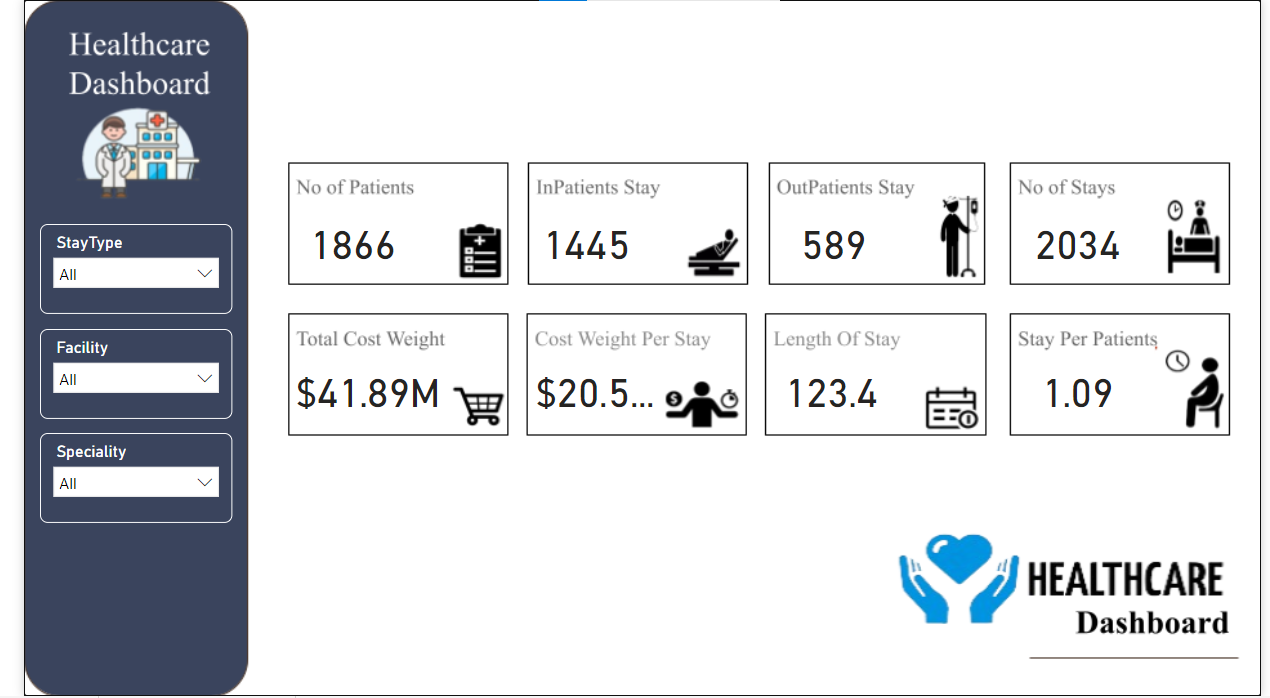

The page's visual inventory and layout, read from the dashboard file:
{"tool":"powerbi","page":{"name":"Homepage","canvas":[1280,720],"ordinal":0},"visuals":[{"type":"card","fields":{"Values":["DaxTable.No of Pateient Stays"]},"box":[1022.6,210.6,133.5,75.7],"z":0},{"type":"card","fields":{"Values":["DaxTable.No Of patients"]},"box":[278,210.6,123.9,75.7],"z":1000},{"type":"card","fields":{"Values":["DaxTable.Inpatient"]},"box":[523,212,117,74.3],"z":2000},{"type":"card","fields":{"Values":["DaxTable.Outpatient"]},"box":[773.5,212,126.6,74.3],"z":3000},{"type":"card","fields":{"Values":["DaxTable.Totalcost-Weight"]},"box":[275.3,366.1,161,71.6],"z":4000},{"type":"card","fields":{"Values":["DaxTable.Cost Per Stay"]},"box":[521.6,366.1,137.6,71.6],"z":5000},{"type":"card","fields":{"Values":["Avg(FactHealthCare.Datediff)"]},"box":[769.4,366.1,130.8,71.6],"z":6000},{"type":"card","fields":{"Values":["DaxTable.Patient per stay"]},"box":[1022.6,366.1,133.5,71.6],"z":7000},{"type":"actionButton","box":[82,642.2,100.4,39.6],"z":8000},{"type":"slicer","fields":{"Values":["Facility.Column2"]},"box":[16.5,339.8,198.6,92.9],"z":9000},{"type":"slicer","fields":{"Values":["Speciality.Column2"]},"box":[16.5,447.7,198.6,92.9],"z":10000},{"type":"slicer","fields":{"Values":["StayType.StayType"]},"box":[16.5,232,198.6,92.9],"z":11000}]}

Visuals, with their boxes in screenshot pixels (x1, y1, x2, y2), scaled from the page's 1280x720 canvas onto the 1270x698 screenshot:
card - DaxTable.No of Pateient Stays: select_region(1015, 204, 1147, 278)
card - DaxTable.No Of patients: select_region(276, 204, 399, 278)
card - DaxTable.Inpatient: select_region(519, 206, 635, 278)
card - DaxTable.Outpatient: select_region(767, 206, 893, 278)
card - DaxTable.Totalcost-Weight: select_region(273, 355, 433, 424)
card - DaxTable.Cost Per Stay: select_region(518, 355, 654, 424)
card - Avg(FactHealthCare.Datediff): select_region(763, 355, 893, 424)
card - DaxTable.Patient per stay: select_region(1015, 355, 1147, 424)
actionButton: select_region(81, 623, 181, 661)
slicer - Facility.Column2: select_region(16, 329, 213, 419)
slicer - Speciality.Column2: select_region(16, 434, 213, 524)
slicer - StayType.StayType: select_region(16, 225, 213, 315)
